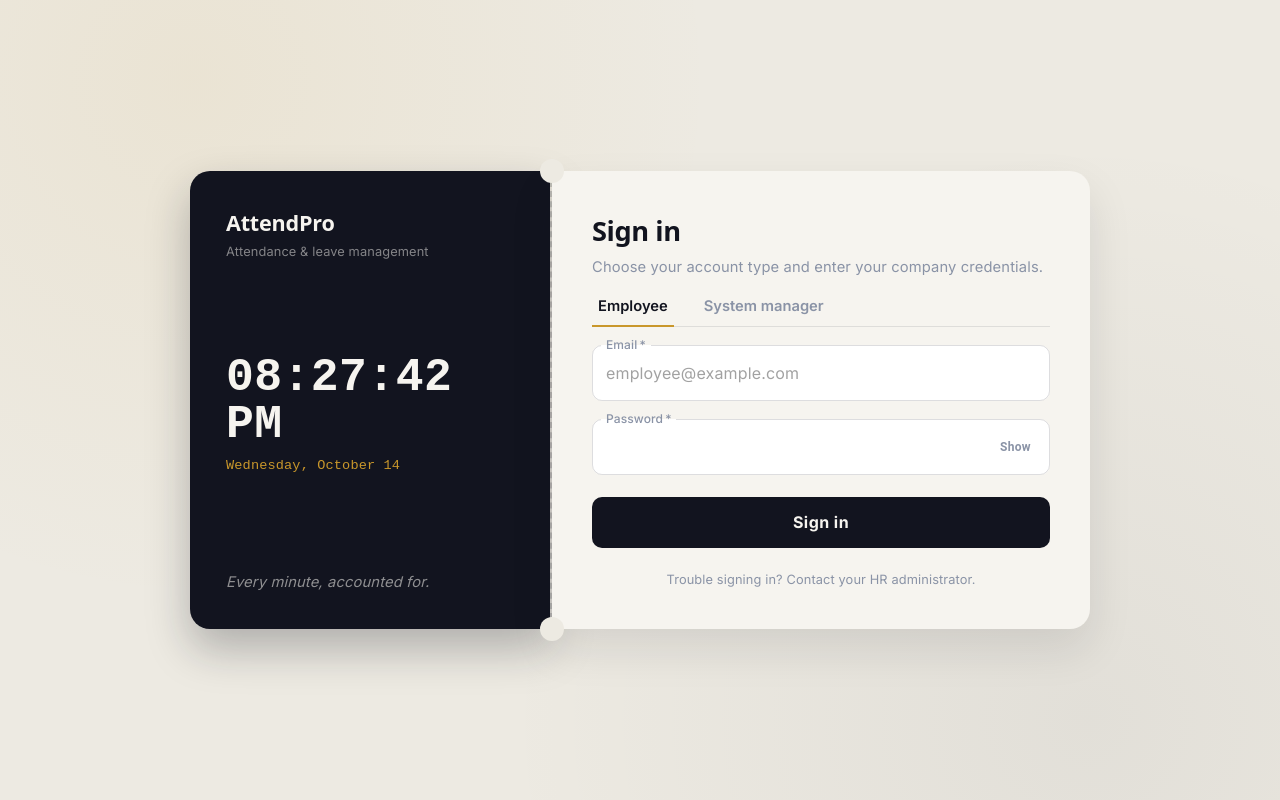
Test case: shows login failures and lets the user reveal the password
Type "employee@example.test" into the field labelled "Email".
click(821, 373); type("employee@example.test")  # box [592,345,1050,401]
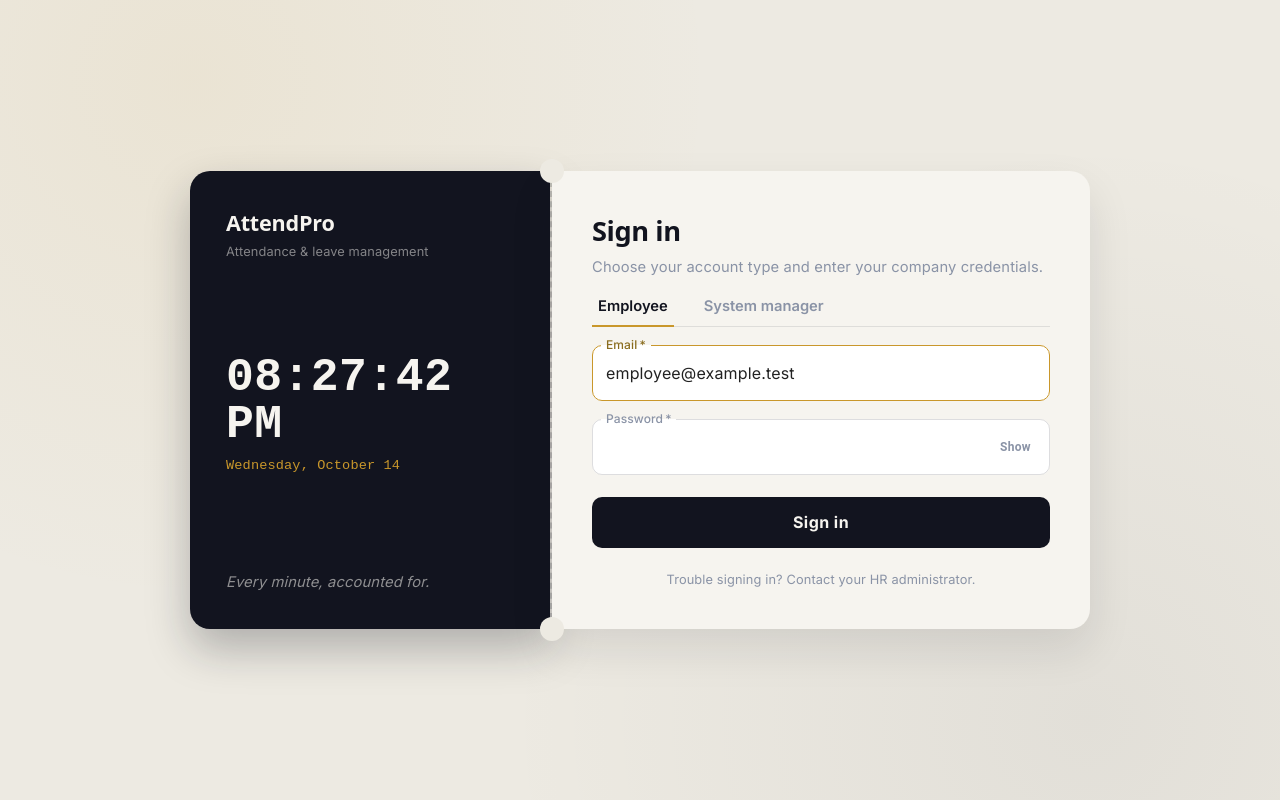
Type "incorrect-password" into the password field labelled "Password *".
click(789, 447); type("incorrect-password")  # box [592,419,987,475]
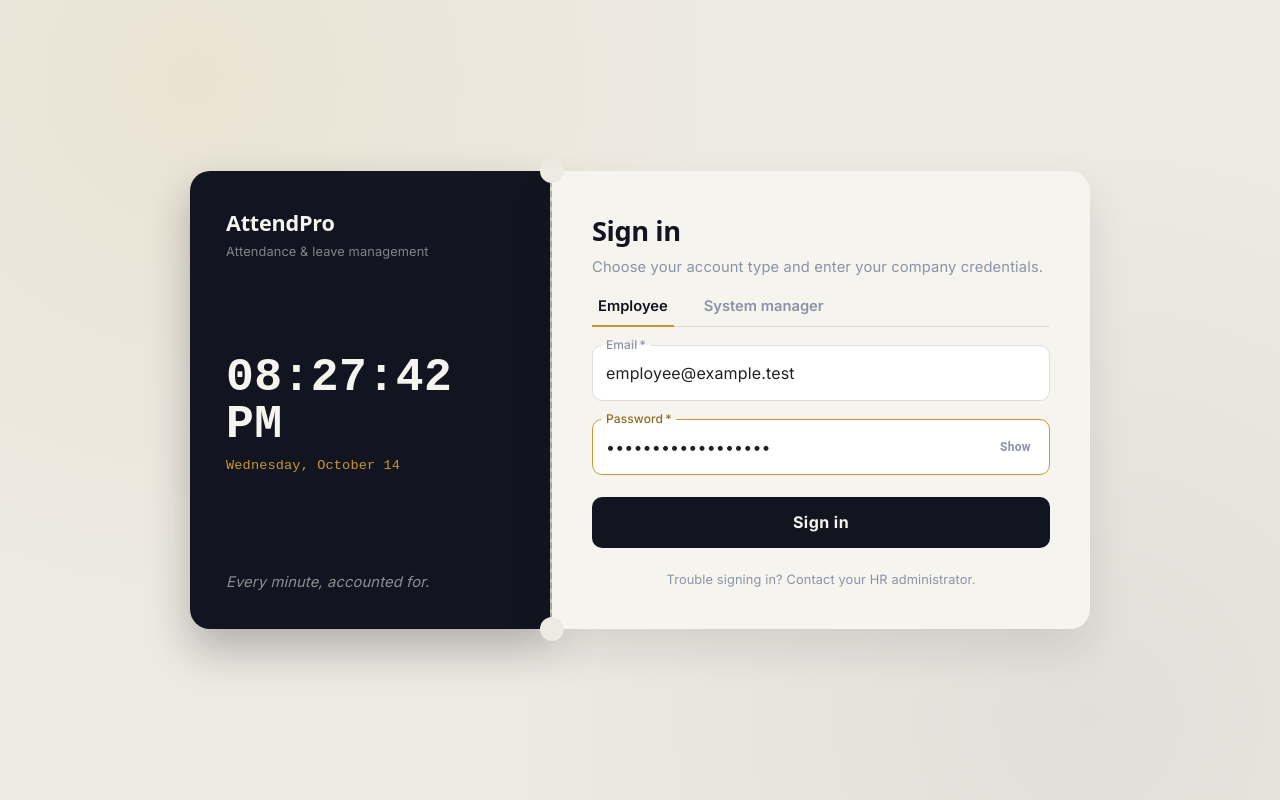
Click the button "Show".
click(1015, 447)  # box [995,433,1036,462]
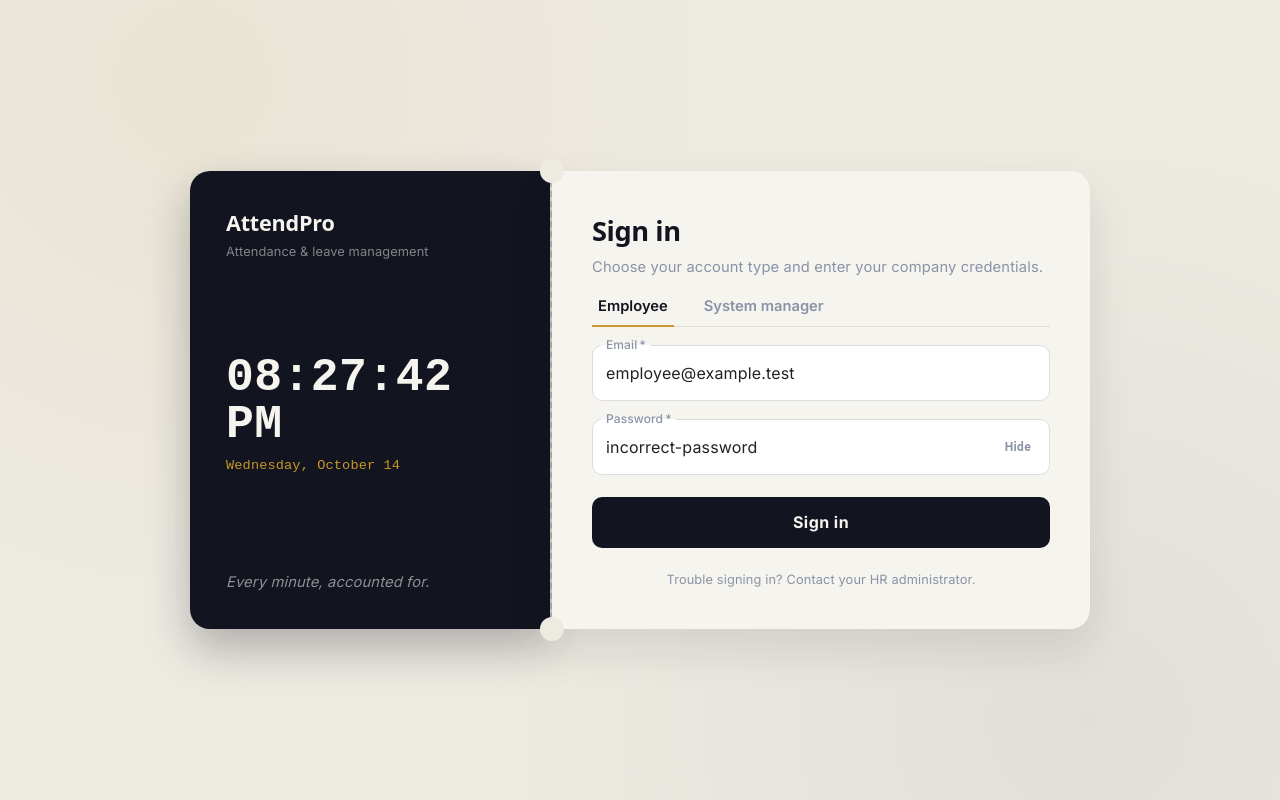
Expected: the field labelled "Password *" shows its text, [592,419,992,475]
Click the button "Sign in".
click(821, 522)  # box [592,497,1050,548]
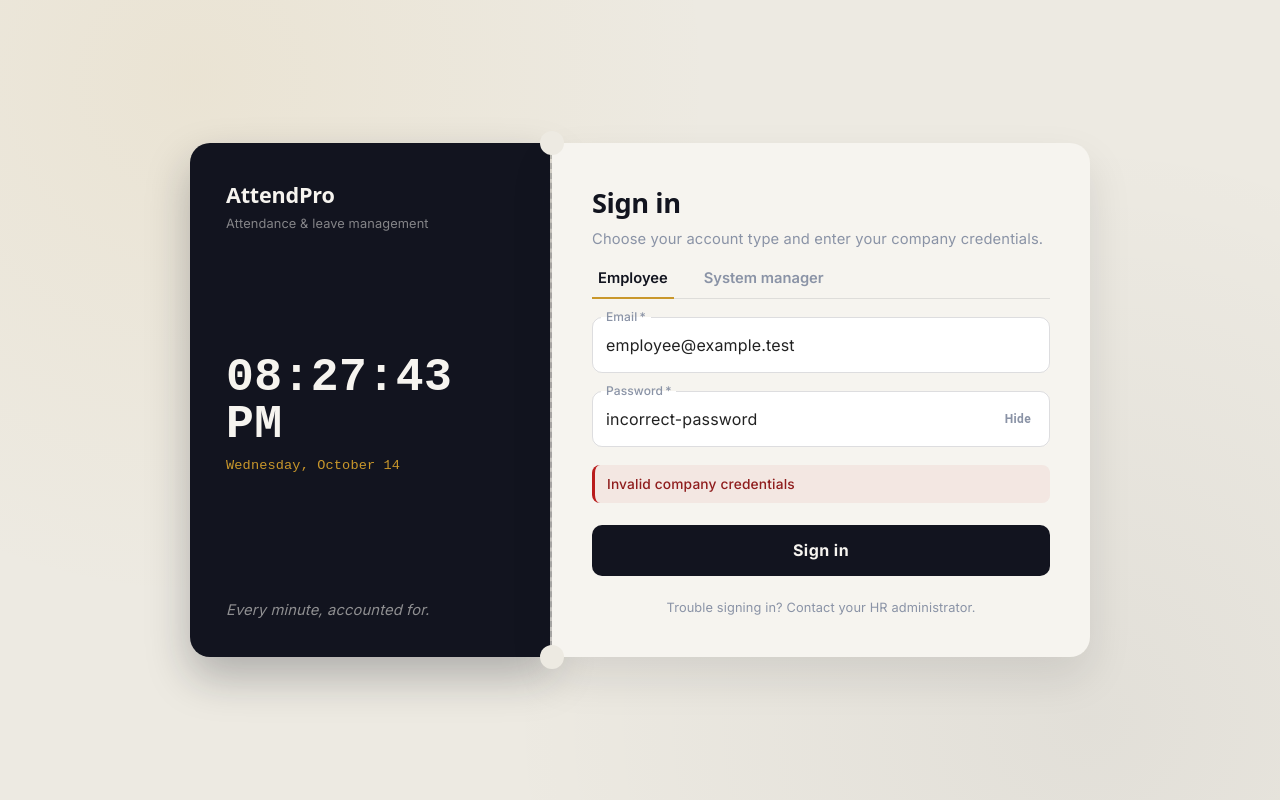
Expected: the text "Invalid company credentials" is shown, [592,465,1050,503]
